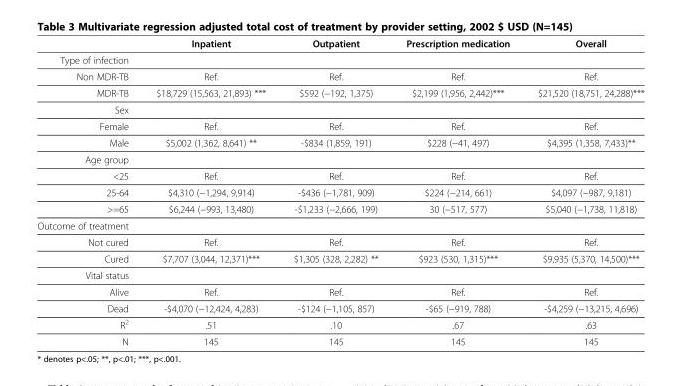table: (36, 37, 643, 346)
table column: (141, 37, 279, 346), (391, 37, 523, 346), (523, 37, 643, 346), (279, 37, 391, 346), (36, 37, 141, 346)
table column header: (36, 37, 643, 51)
table projected row header: (36, 150, 643, 167), (36, 266, 643, 283), (36, 51, 643, 67), (36, 101, 643, 117), (36, 217, 643, 233)
table row: (36, 67, 643, 84), (36, 84, 643, 101), (36, 133, 643, 150), (36, 150, 643, 167), (36, 183, 643, 200), (36, 200, 643, 217), (36, 233, 643, 250), (36, 266, 643, 283), (36, 315, 643, 332), (36, 51, 643, 67), (36, 101, 643, 117), (36, 117, 643, 133), (36, 167, 643, 183), (36, 217, 643, 233), (36, 250, 643, 266), (36, 283, 643, 299), (36, 299, 643, 315), (36, 37, 643, 51), (36, 332, 643, 346)
